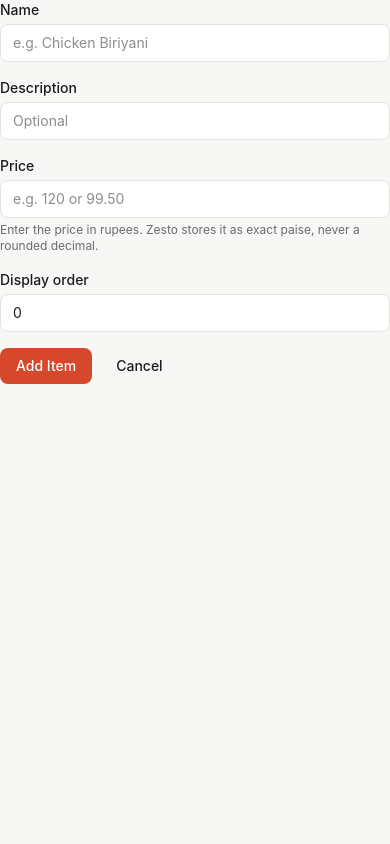
Test: MenuItemForm (create) › rejects an invalid price -10
This screenshot has width=390, height=844.
In the field labelled "Name": (195, 43) [0, 24, 389, 62], type "Chicken Biriyani"
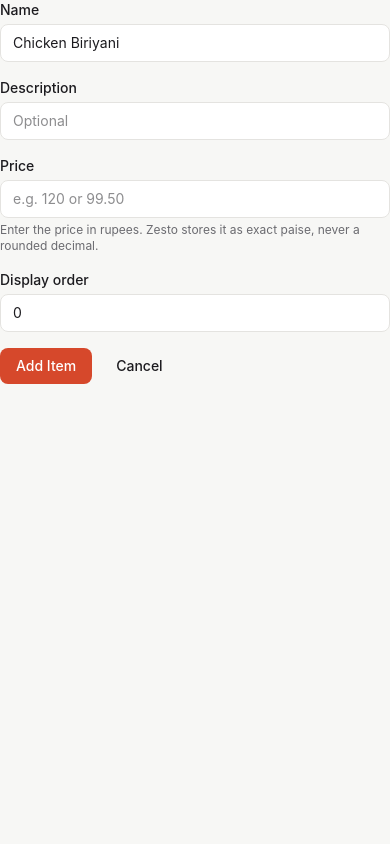
In the field labelled "Price": (195, 199) [0, 180, 389, 218], type "-10"
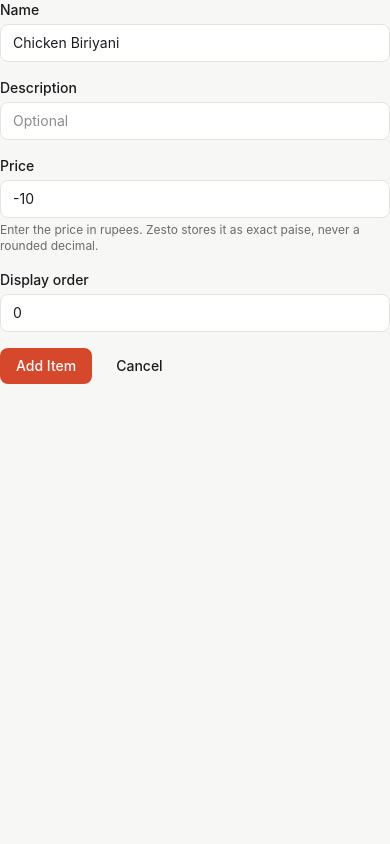
Click the button "Add Item": (46, 366) [0, 348, 92, 384]
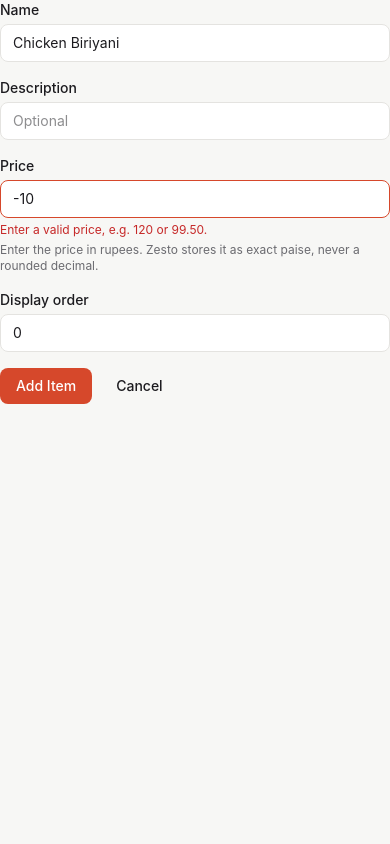
Now the text "Enter a valid price, e.g. 120 or 99.50." is shown, box [0, 222, 207, 237]
